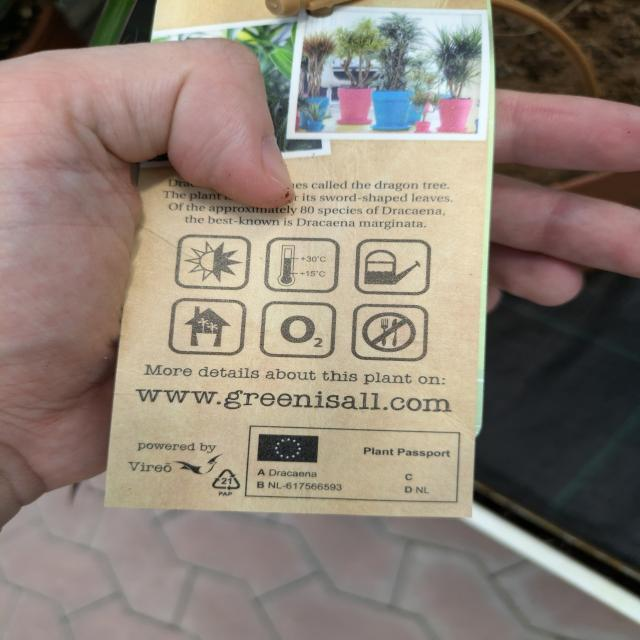Zimmerpflanze: (166, 294, 249, 366)
mittel giesen: (350, 242, 437, 298)
sonnig: (175, 226, 254, 290)
